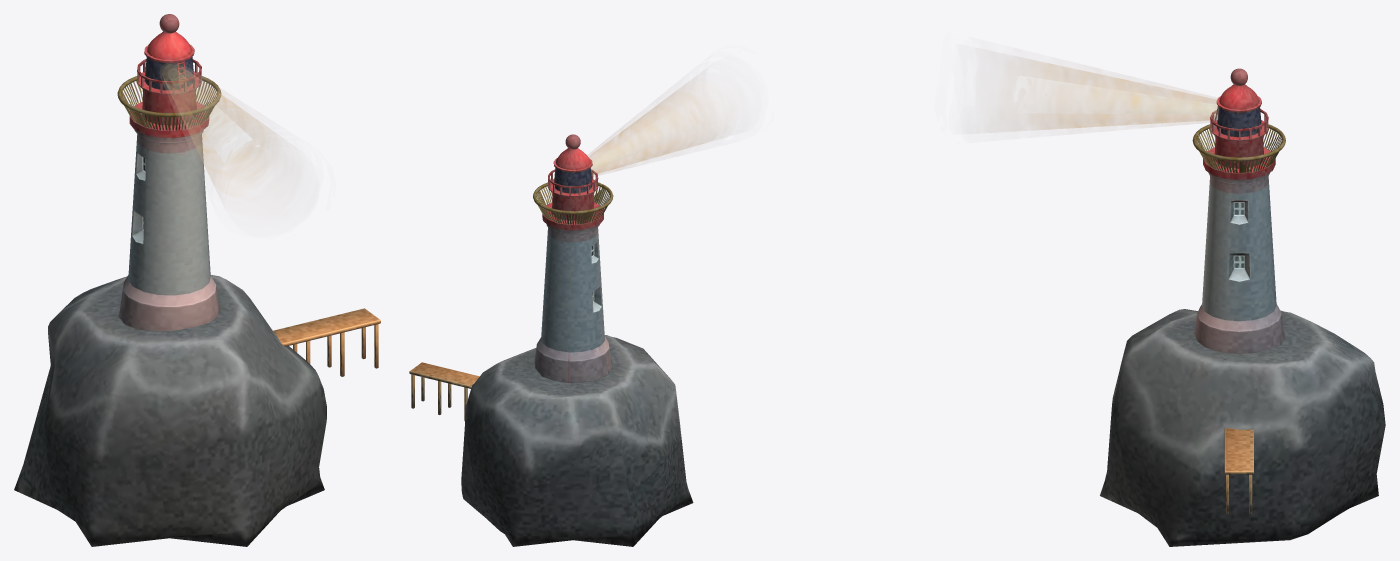
The model's file is lighthouse_b.glb.
The picture shows the model from 3 angles, left to right: view 1: azimuth 30°, elevation 25°; view 2: azimuth 150°, elevation 25°; view 3: azimuth 270°, elevation 25°; orthographic projection. The views are drawn at different scales.
Parts seen in each view (by area): view 1: Rock, Lighthouse, Light Cone, Landing Stage, lower bars, lower handle; view 2: Rock, Lighthouse, Light Cone, Landing Stage, lower bars; view 3: Rock, Lighthouse, Light Cone, Landing Stage, lower bars, lower handle.
Part boxes in pixels (bbox=[...]): Rock: bbox=[14, 275, 326, 546]; Lighthouse: bbox=[119, 31, 219, 331]; Light Cone: bbox=[160, 63, 299, 209]; Landing Stage: bbox=[273, 308, 380, 376]; lower bars: bbox=[121, 80, 216, 130]; lower handle: bbox=[117, 76, 221, 117]; Rock: bbox=[461, 335, 693, 546]; Lighthouse: bbox=[534, 148, 611, 382]; Light Cone: bbox=[587, 69, 742, 176]; Landing Stage: bbox=[409, 362, 479, 420]; lower bars: bbox=[536, 186, 609, 224]; Rock: bbox=[1100, 309, 1385, 546]; Lighthouse: bbox=[1194, 84, 1284, 353]; Light Cone: bbox=[965, 48, 1218, 134]; Landing Stage: bbox=[1224, 428, 1253, 513]; lower bars: bbox=[1196, 128, 1282, 173]; lower handle: bbox=[1192, 124, 1285, 161].
Bounding box in the file's own units: 15.53 × 21.74 × 23.29.
6 materials, 6 textured.
